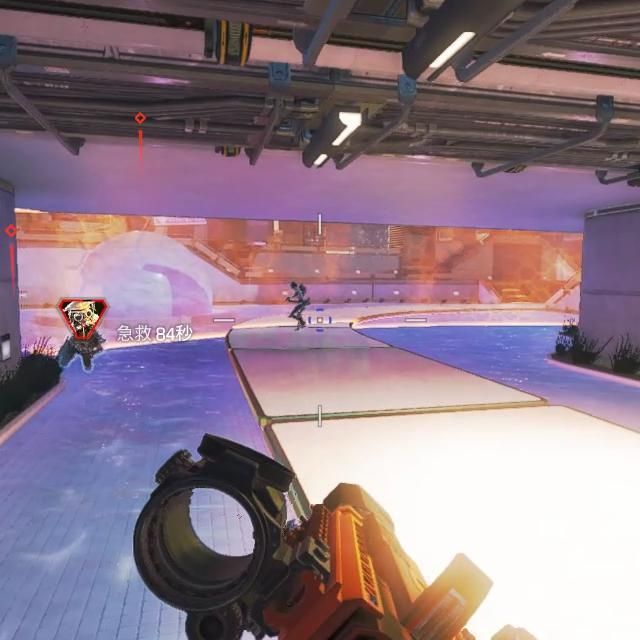avatar: (286, 280, 312, 332)
